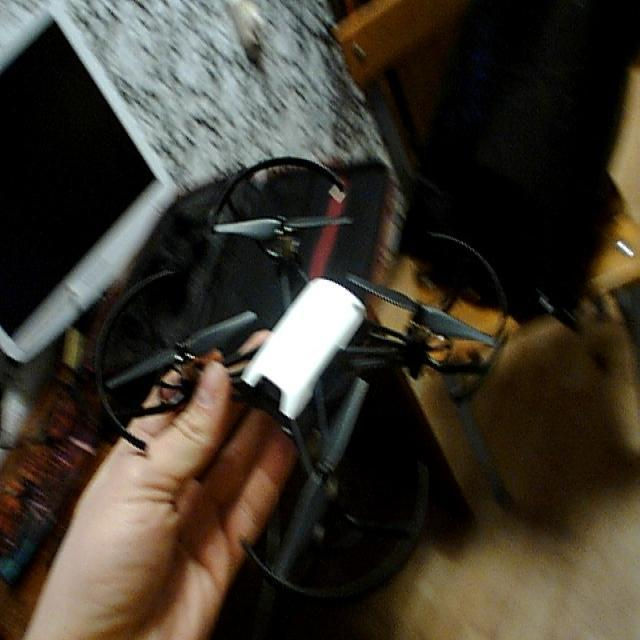drone: (87, 145, 520, 619)
